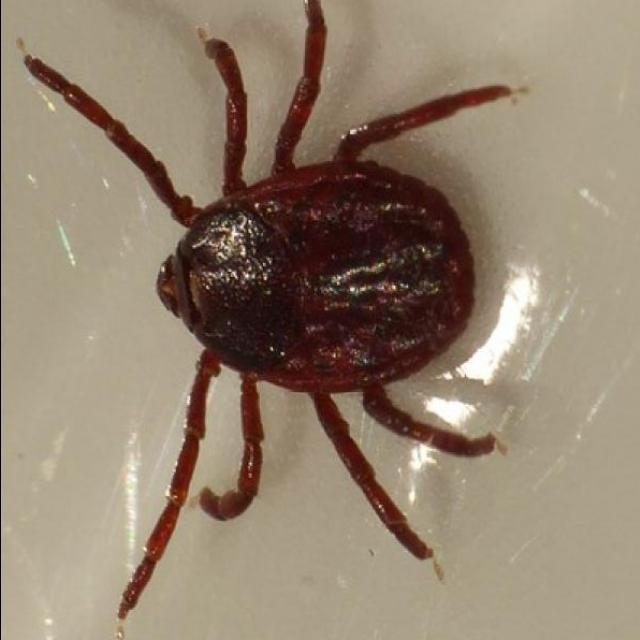Rhipicephalus Sanguineus-F: (23, 0, 514, 621)
